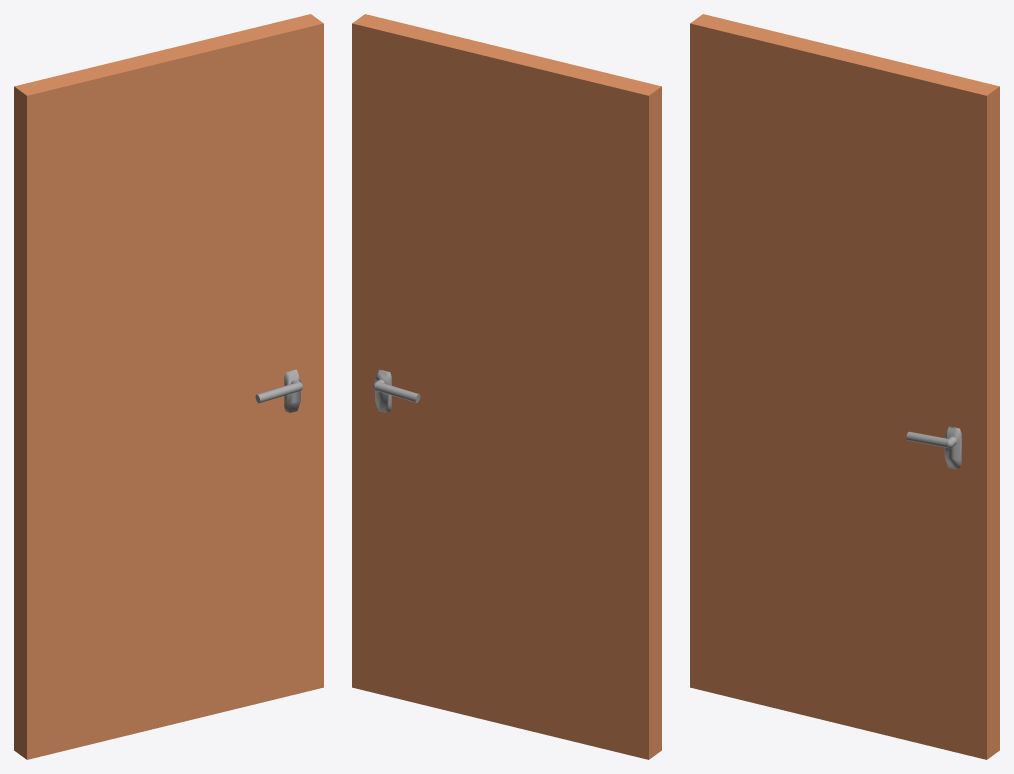
Rendered from Lokaaldeur Oranje.fbx.
The picture shows the model from 3 angles, left to right: view 1: azimuth 30°, elevation 25°; view 2: azimuth 150°, elevation 25°; view 3: azimuth 330°, elevation 25°; orthographic projection.
Visible parts, largest first — view 1: pCube1; view 2: pCube1; view 3: pCube1, pCube2.
Part boxes in pixels (x1,y1,x2,y2): pCube1: (14,14,323,759); pCube1: (352,14,661,759); pCube1: (690,14,999,759); pCube2: (944,426,961,469).
Bounding box in the file's own units: 10.69 × 22.86 × 1.87.
